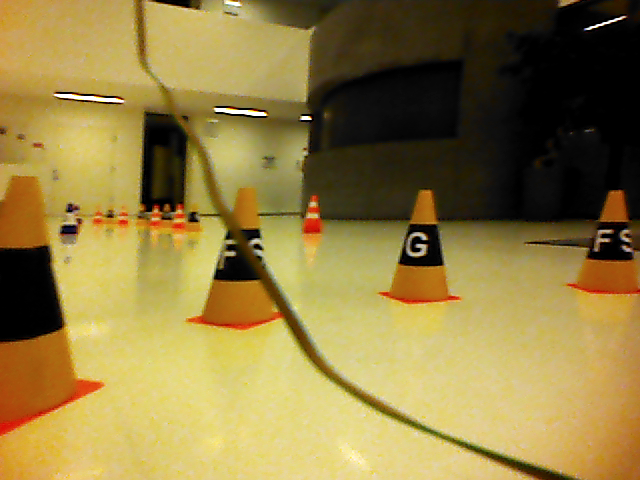yellowcone: (1, 175, 77, 422), (391, 188, 453, 300), (577, 189, 640, 291)
